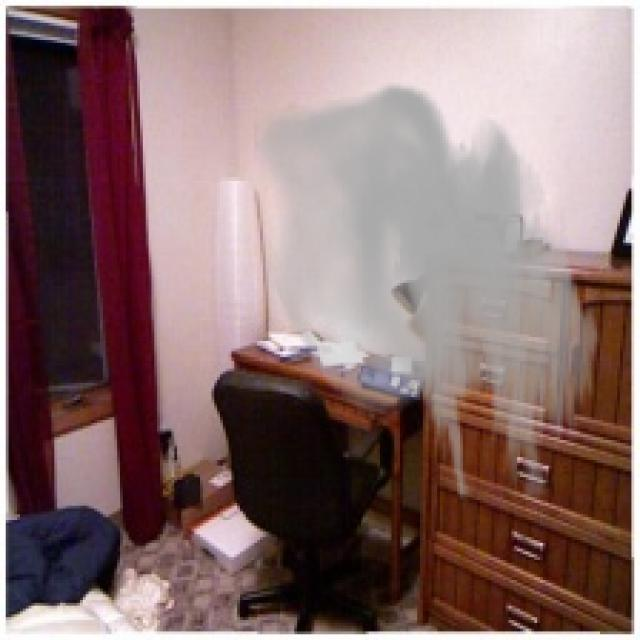smoke: (254, 83, 603, 500)
